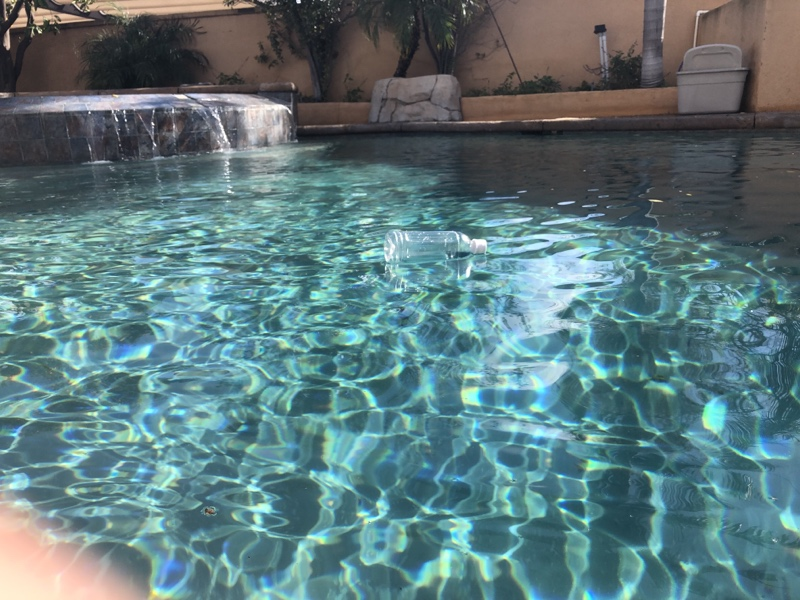Plastic Bottle: (379, 223, 493, 264)
